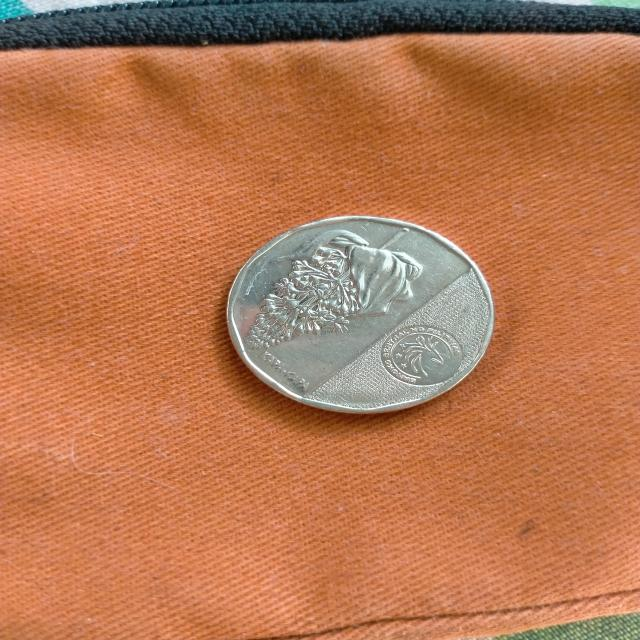10_New_Back: (243, 218, 420, 349)
